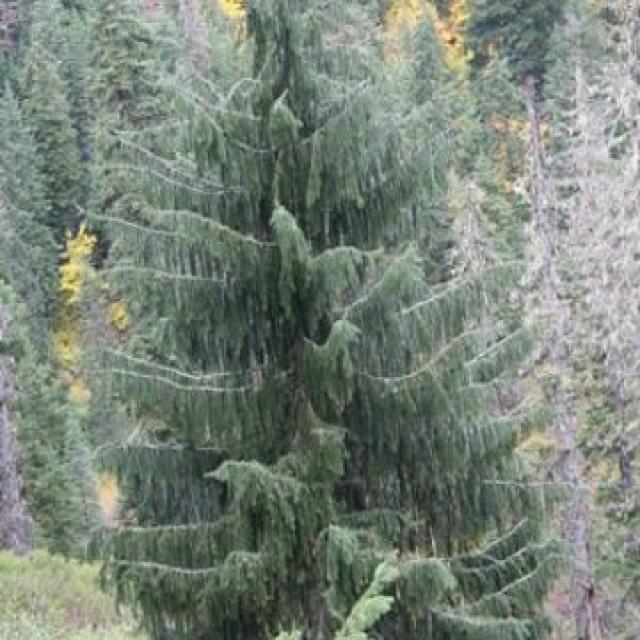Picea breweriana: (101, 3, 562, 640)
